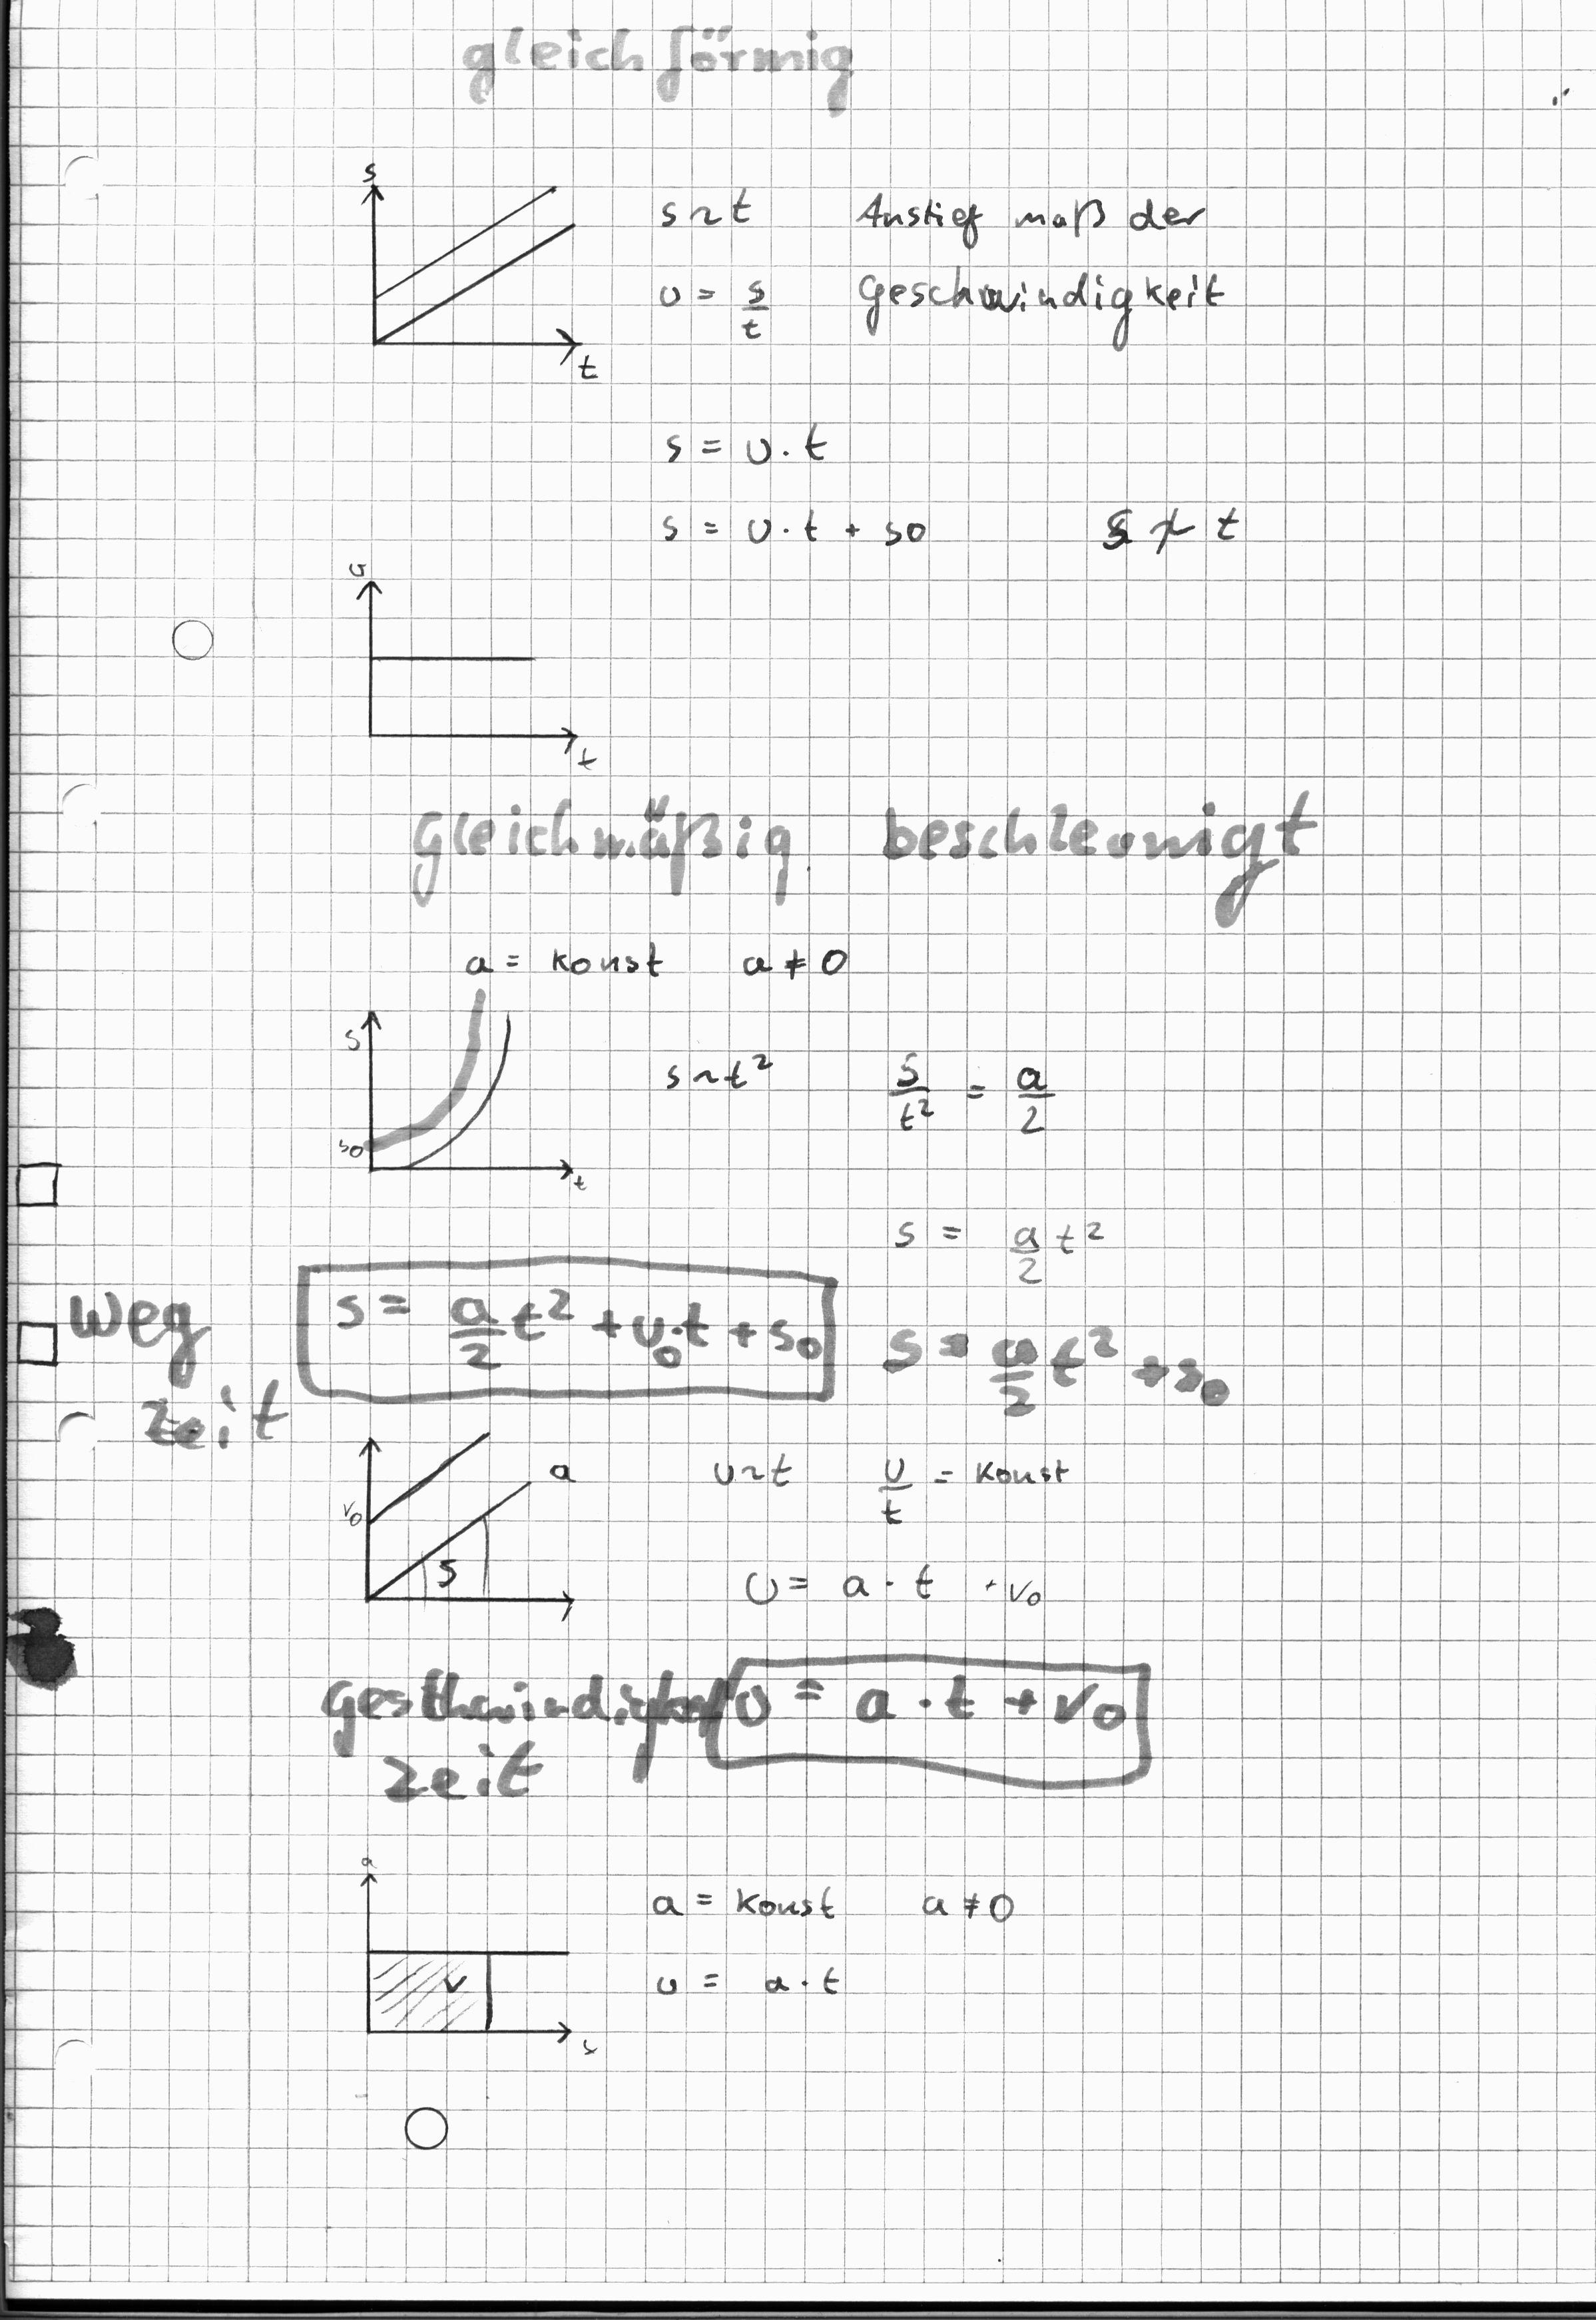word: (842, 174, 1242, 360), (648, 412, 958, 569), (623, 1858, 866, 2018), (720, 1530, 1061, 1639), (1063, 475, 1307, 594), (862, 1419, 1077, 1546), (639, 177, 784, 355), (870, 1038, 1069, 1150), (452, 916, 673, 1000), (688, 1415, 837, 1530), (717, 903, 876, 1012), (653, 1029, 788, 1121), (899, 1863, 1025, 1948)
